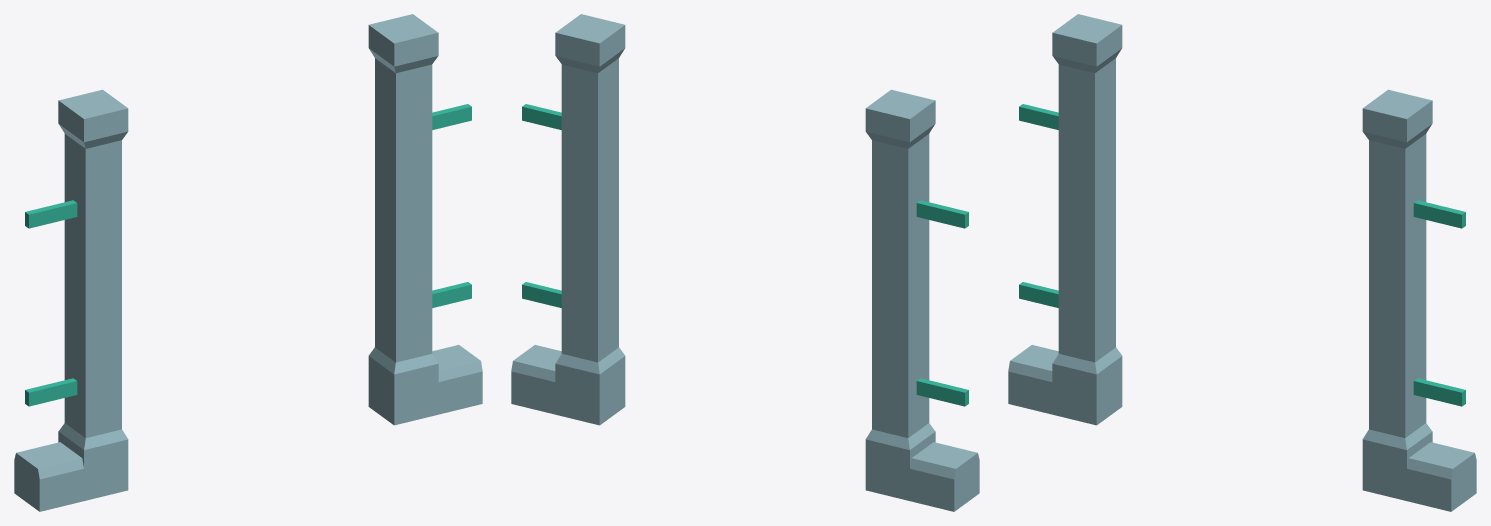
File: ironFenceBorderGate.fbx
3 views of the same model, side by side, from view 1: azimuth 30°, elevation 25°; view 2: azimuth 150°, elevation 25°; view 3: azimuth 330°, elevation 25° (orthographic).
Visible parts, largest first — view 1: ironFenceBorderGate; view 2: ironFenceBorderGate; view 3: ironFenceBorderGate.
Part boxes in pixels (<box>): ironFenceBorderGate: <box>14,14,482,511</box>; ironFenceBorderGate: <box>511,14,979,511</box>; ironFenceBorderGate: <box>1008,14,1476,511</box>.
Bounding box in the file's own units: 10 × 8.24 × 1.
